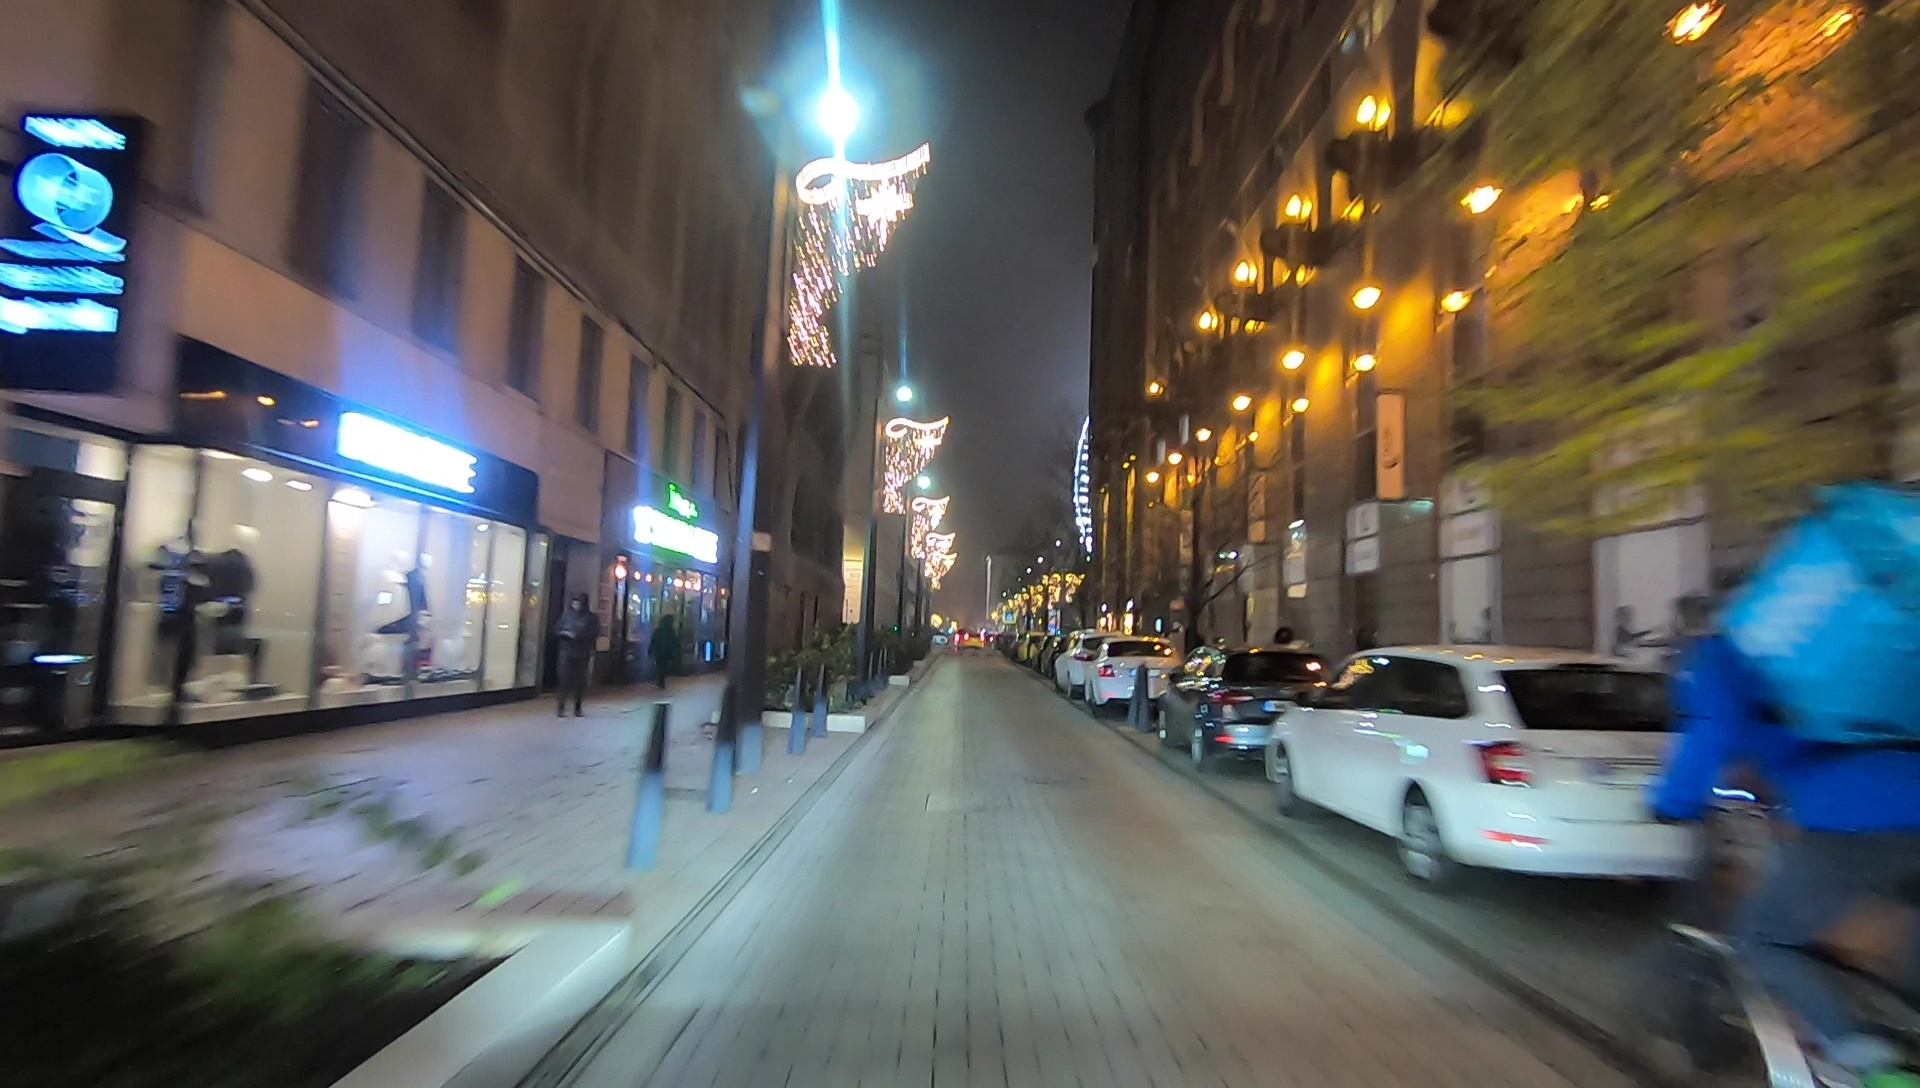person: (554, 593, 593, 721), (651, 615, 680, 697)
